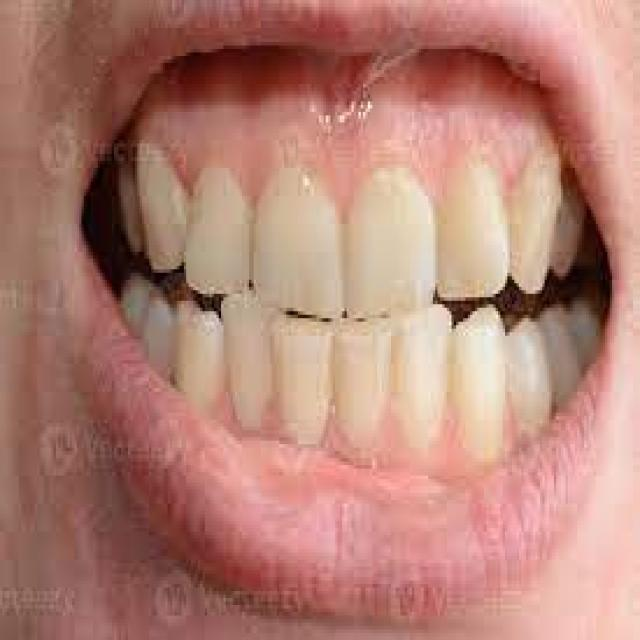tooth: (351, 189, 433, 297), (258, 203, 330, 308), (440, 175, 507, 287), (458, 322, 508, 468), (398, 332, 451, 458), (191, 178, 249, 290), (517, 164, 561, 294), (230, 315, 274, 444), (284, 332, 330, 451), (142, 154, 186, 273), (342, 346, 389, 455), (512, 311, 549, 448), (184, 308, 226, 427), (556, 311, 594, 399), (142, 286, 172, 384), (116, 164, 140, 259), (566, 203, 584, 273), (123, 276, 140, 346)
